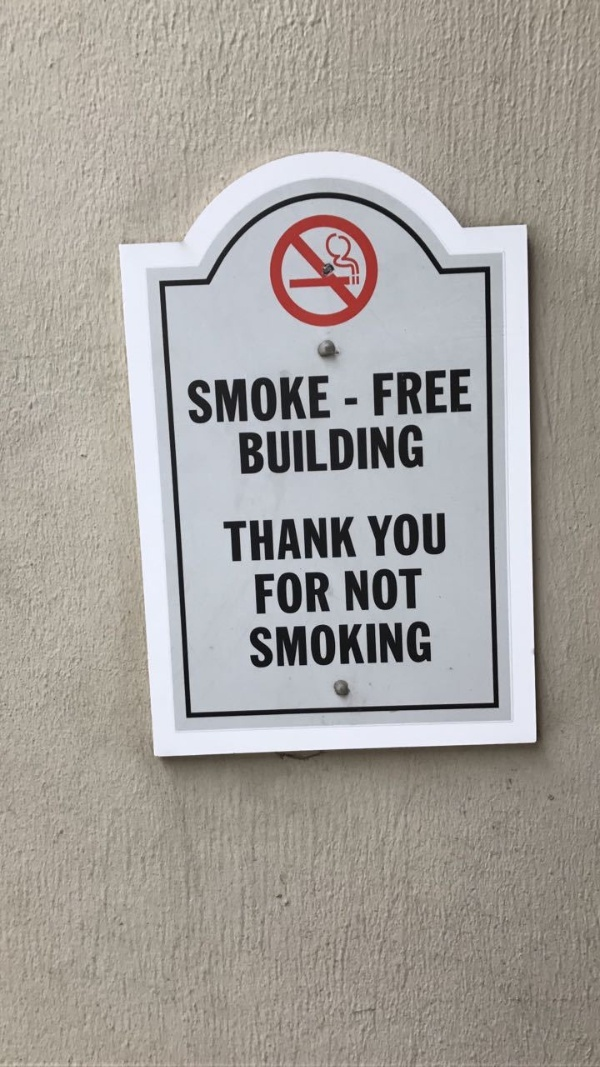text: (385, 366, 400, 419), (401, 366, 416, 419), (417, 366, 432, 419), (433, 366, 448, 419), (449, 366, 464, 419), (193, 375, 208, 426), (209, 375, 224, 426), (225, 375, 240, 426), (241, 375, 256, 426), (257, 375, 272, 426), (273, 375, 288, 426), (289, 375, 304, 426), (305, 375, 320, 426), (241, 424, 256, 475), (257, 424, 272, 475), (273, 424, 288, 475), (289, 424, 304, 475), (305, 424, 320, 475), (321, 424, 336, 475), (337, 424, 352, 475), (353, 424, 368, 475), (369, 424, 384, 475), (385, 424, 400, 475), (401, 424, 416, 475), (257, 622, 272, 669), (273, 622, 288, 669), (289, 622, 304, 669), (305, 622, 320, 669), (321, 622, 336, 669), (337, 622, 352, 669), (353, 622, 368, 669), (369, 622, 384, 669), (385, 622, 400, 669), (401, 622, 416, 669), (417, 622, 432, 669), (225, 516, 240, 562), (241, 516, 256, 562), (257, 516, 272, 562), (273, 516, 288, 562), (289, 516, 304, 562), (305, 516, 320, 562), (321, 516, 336, 562), (337, 516, 352, 562), (353, 567, 368, 613), (369, 567, 384, 613), (385, 567, 400, 613), (401, 567, 416, 613), (371, 366, 384, 419), (369, 512, 384, 557), (385, 512, 400, 557), (401, 512, 416, 557), (417, 512, 432, 557), (257, 572, 272, 616), (273, 572, 288, 616), (289, 572, 304, 616), (305, 572, 320, 616), (321, 375, 333, 426), (433, 512, 446, 557), (465, 366, 476, 419), (321, 572, 331, 616), (417, 424, 425, 475), (344, 567, 352, 613), (249, 622, 256, 669), (186, 375, 192, 426), (417, 567, 423, 613), (341, 396, 352, 409), (353, 516, 356, 562), (365, 512, 368, 557), (253, 572, 256, 616), (353, 396, 362, 409), (238, 424, 240, 475), (222, 516, 224, 562)
